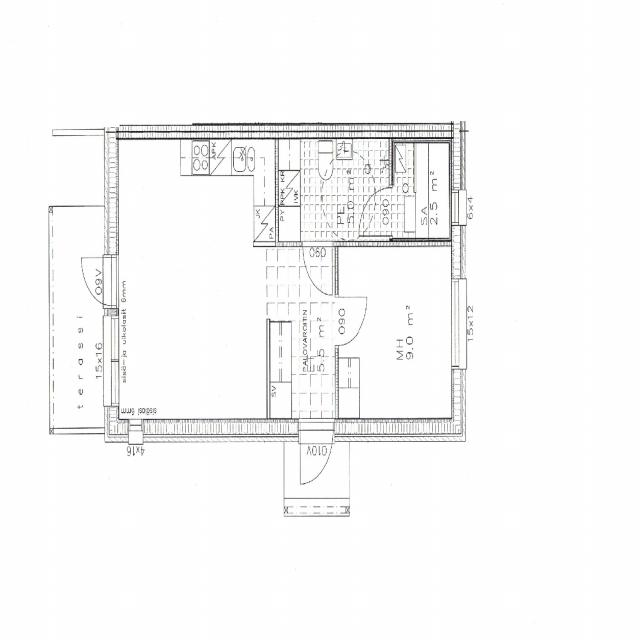door: (300, 419, 333, 497), (75, 256, 119, 306), (335, 296, 368, 346), (359, 187, 392, 236), (302, 242, 332, 294)
